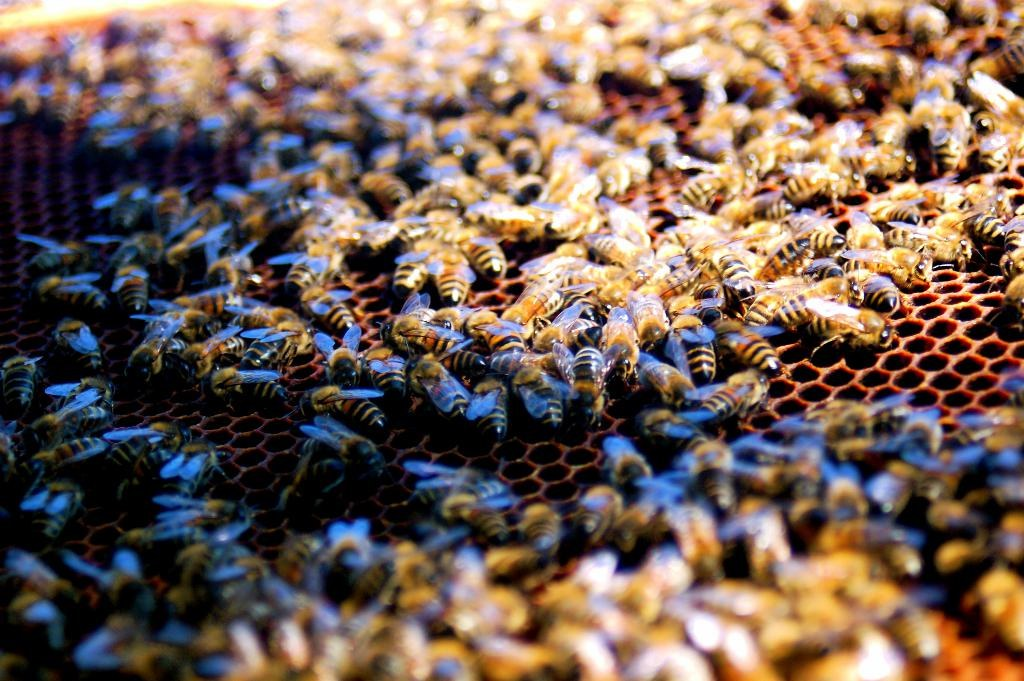bee: (0, 0, 1023, 680), (347, 0, 1023, 447), (1, 430, 1023, 680), (0, 0, 368, 490), (301, 382, 384, 426)
insect: (0, 0, 1023, 680)
